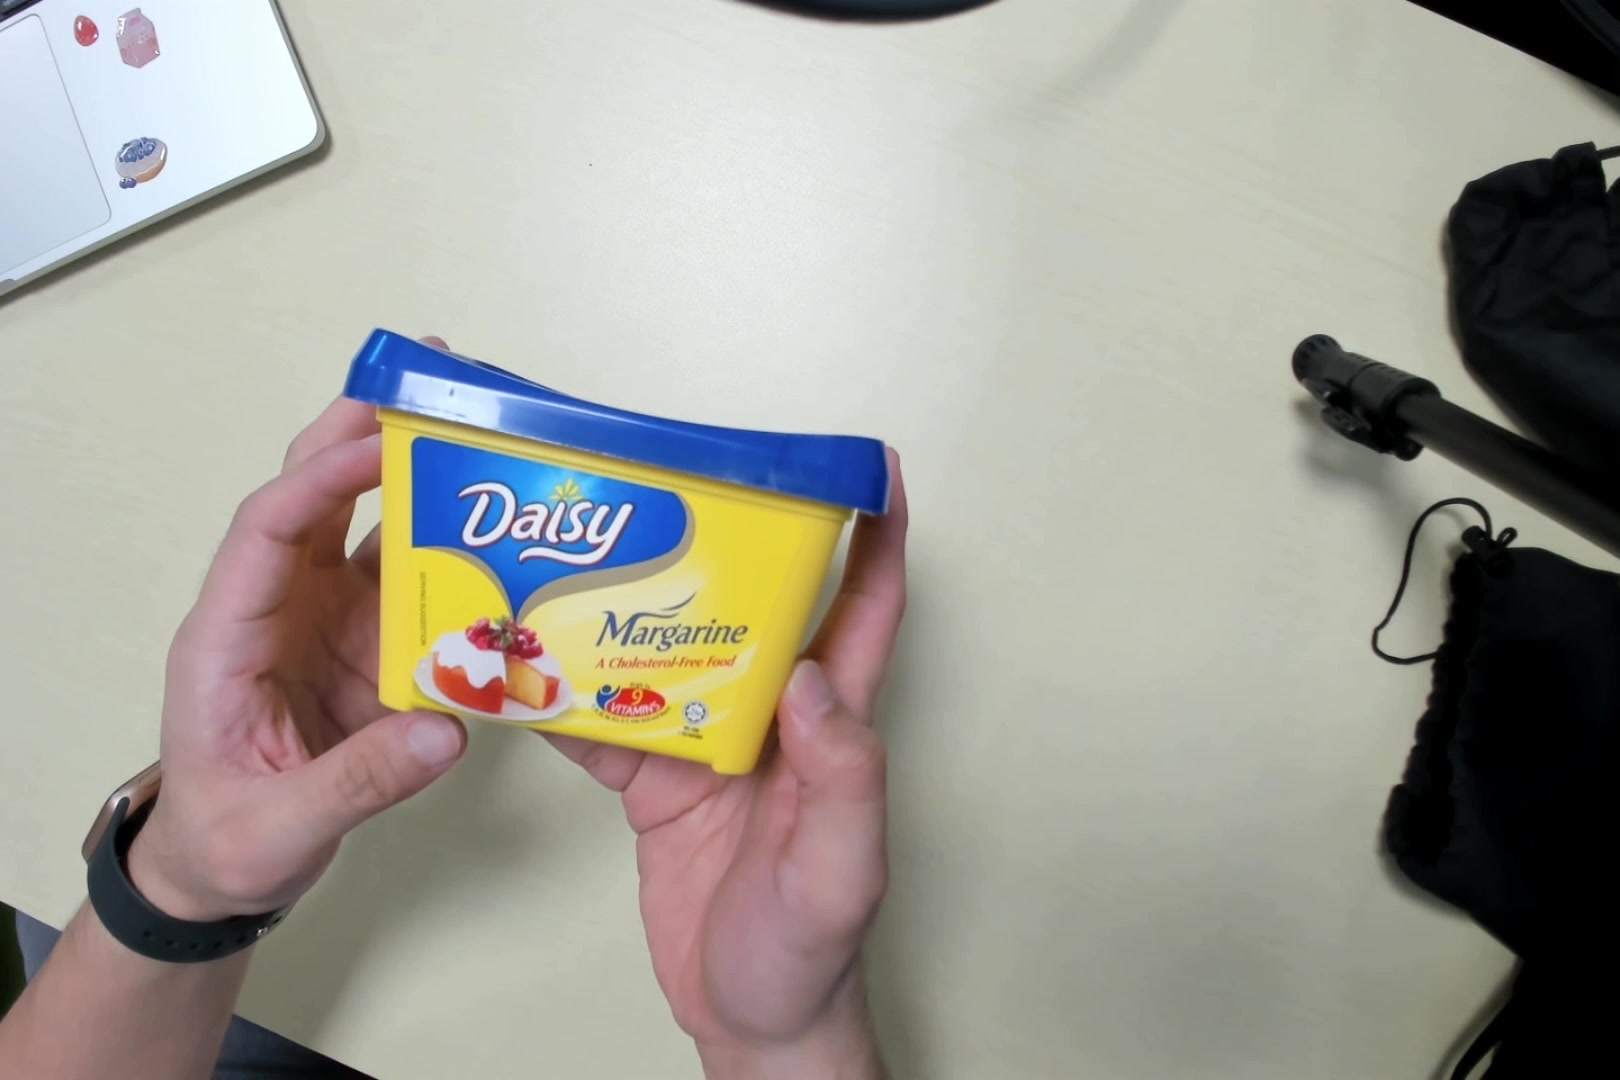OtherSpreads_400-499g_Halal_NonHealthy: (348, 334, 892, 788)
